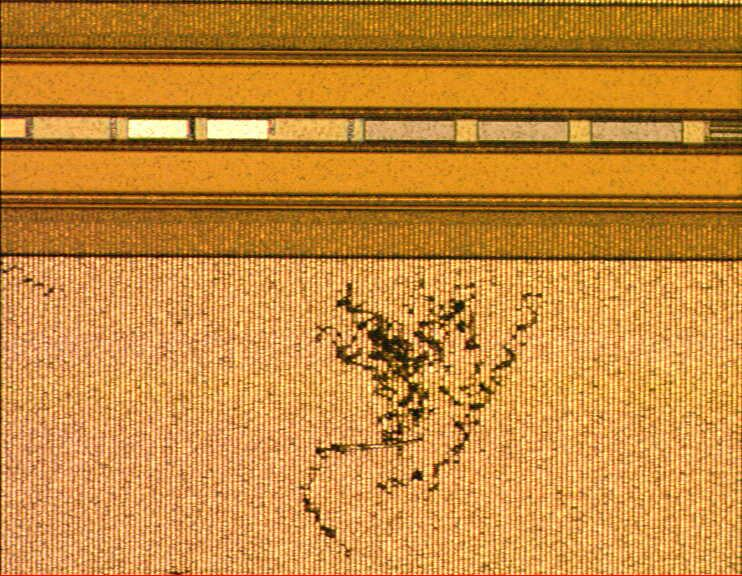SCRATCH: (1, 253, 551, 576)
